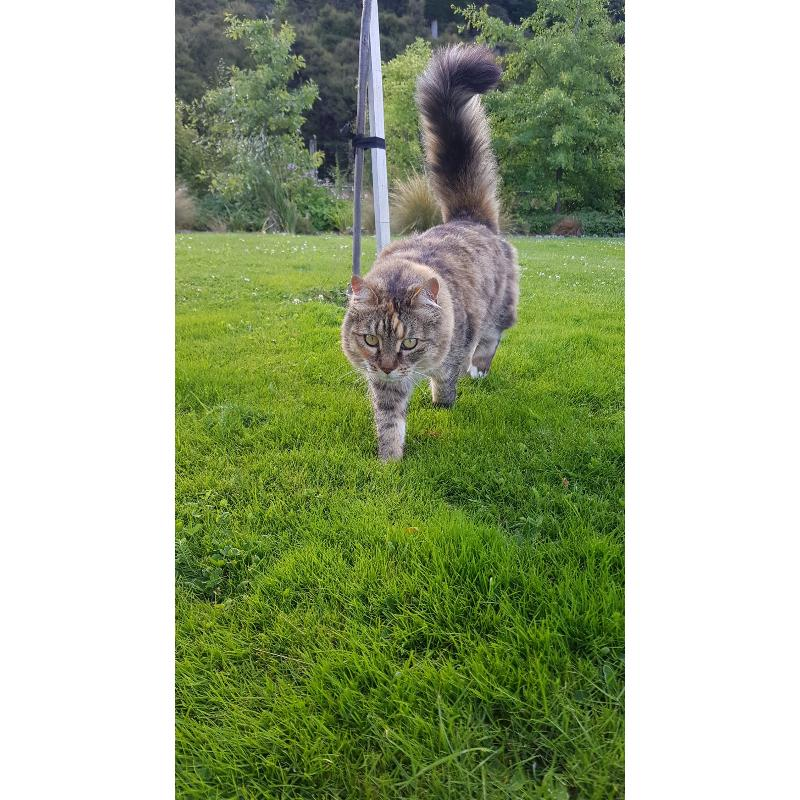yellow: (341, 218, 520, 466)
